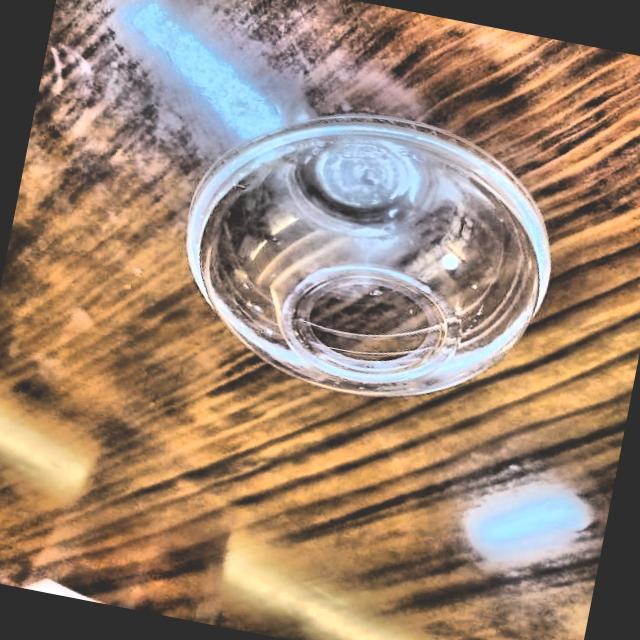plastic cup: (128, 46, 596, 433)
